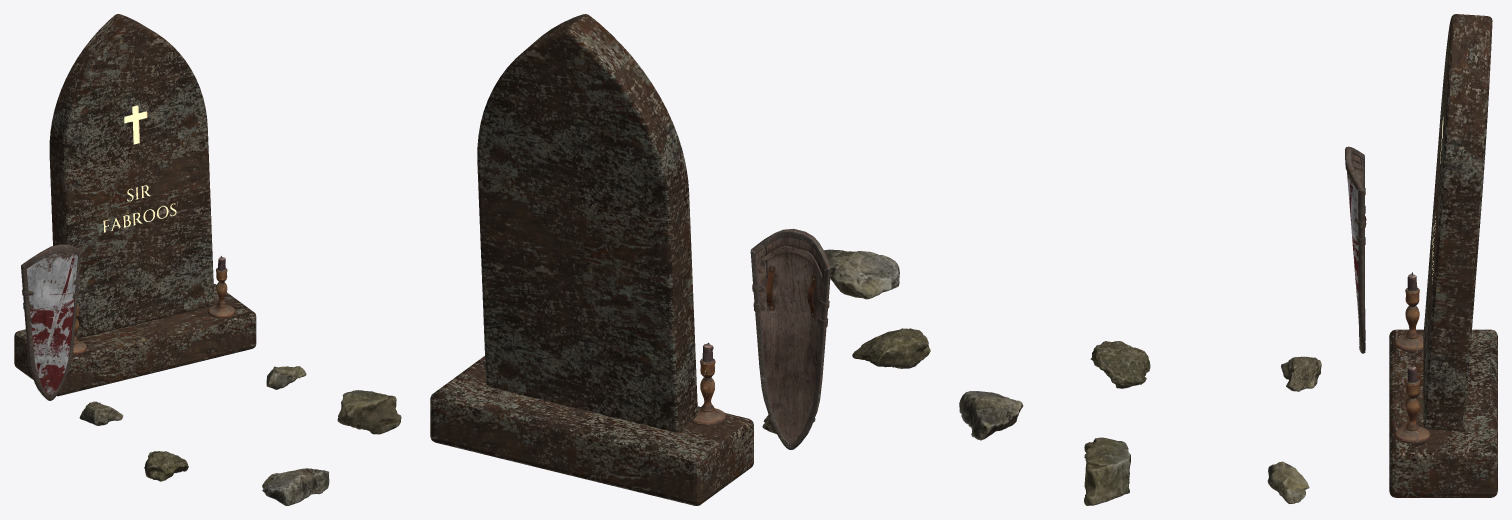
File: tomb.glb
The picture shows the model from 3 angles, left to right: view 1: azimuth 30°, elevation 25°; view 2: azimuth 150°, elevation 25°; view 3: azimuth 270°, elevation 25°; orthographic projection. The views are drawn at different scales.
Parts seen in each view (by area): view 1: headstone, Cube.001, kite_shield_body.001, rock_moss_set_02_rock13.001, rock_moss_set_02_rock10.001, rock_moss_set_02_rock12.001, wooden_candlestick.001, rock_moss_set_02_rock08.001, rock_moss_set_02_rock09.001; view 2: headstone, Cube.001, kite_shield_body.001, rock_moss_set_02_rock10.001, rock_moss_set_02_rock12.001, wooden_candlestick.002; view 3: headstone, Cube.001, rock_moss_set_02_rock13.001, kite_shield_body.001, rock_moss_set_02_rock10.001, rock_moss_set_02_rock12.001, wooden_candlestick.001, rock_moss_set_02_rock09.001, wooden_candlestick.002, rock_moss_set_02_rock08.001.
Part boxes in pixels (left/top/right/bottom): headstone: left=49, top=14, right=214, bottom=338; Cube.001: left=14, top=284, right=256, bottom=396; kite_shield_body.001: left=21, top=244, right=80, bottom=400; rock_moss_set_02_rock13.001: left=337, top=390, right=401, bottom=434; rock_moss_set_02_rock10.001: left=262, top=468, right=329, bottom=505; rock_moss_set_02_rock12.001: left=144, top=451, right=188, bottom=481; wooden_candlestick.001: left=207, top=256, right=235, bottom=318; rock_moss_set_02_rock08.001: left=79, top=401, right=123, bottom=425; rock_moss_set_02_rock09.001: left=266, top=366, right=306, bottom=389; headstone: left=477, top=14, right=697, bottom=432; Cube.001: left=430, top=356, right=753, bottom=505; kite_shield_body.001: left=750, top=228, right=830, bottom=449; rock_moss_set_02_rock10.001: left=824, top=249, right=899, bottom=299; rock_moss_set_02_rock12.001: left=852, top=328, right=930, bottom=368; wooden_candlestick.002: left=691, top=342, right=726, bottom=425; headstone: left=1423, top=14, right=1492, bottom=431; Cube.001: left=1389, top=329, right=1497, bottom=497; rock_moss_set_02_rock13.001: left=1084, top=437, right=1130, bottom=505; kite_shield_body.001: left=1345, top=146, right=1366, bottom=353; rock_moss_set_02_rock10.001: left=959, top=391, right=1023, bottom=440; rock_moss_set_02_rock12.001: left=1090, top=341, right=1150, bottom=388; wooden_candlestick.001: left=1394, top=364, right=1430, bottom=443; rock_moss_set_02_rock09.001: left=1267, top=461, right=1309, bottom=503; wooden_candlestick.002: left=1394, top=272, right=1423, bottom=351; rock_moss_set_02_rock08.001: left=1281, top=356, right=1321, bottom=391.
Bounding box in the file's own units: 1.55 × 1.8 × 2.08.
Materials: 6 (5 with a texture image).
